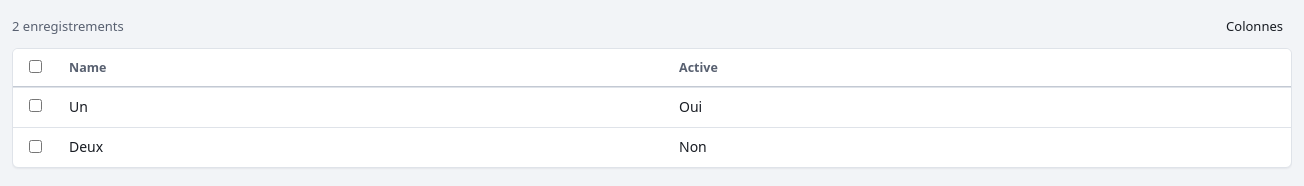
French UI › renders list view buttons, counts and values in French
The image size is (1304, 186).
Check: the text "2 enregistrements" is shown, box left=12, top=17, right=124, bottom=35
Check: the button "Colonnes" is shown, box left=1217, top=12, right=1292, bottom=40
Click the checkbox named "Tout sélectionner" at (36, 67), box left=29, top=60, right=42, bottom=73
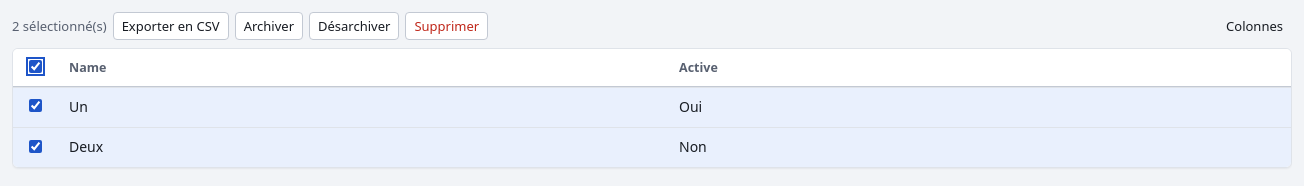
Check: the element named "Actions groupées" shows "2 sélectionné(s)", box left=12, top=17, right=107, bottom=35
Check: the button "Exporter en CSV" is shown, box left=113, top=12, right=229, bottom=40
Check: the button "Archiver" is shown, box left=235, top=12, right=303, bottom=40
